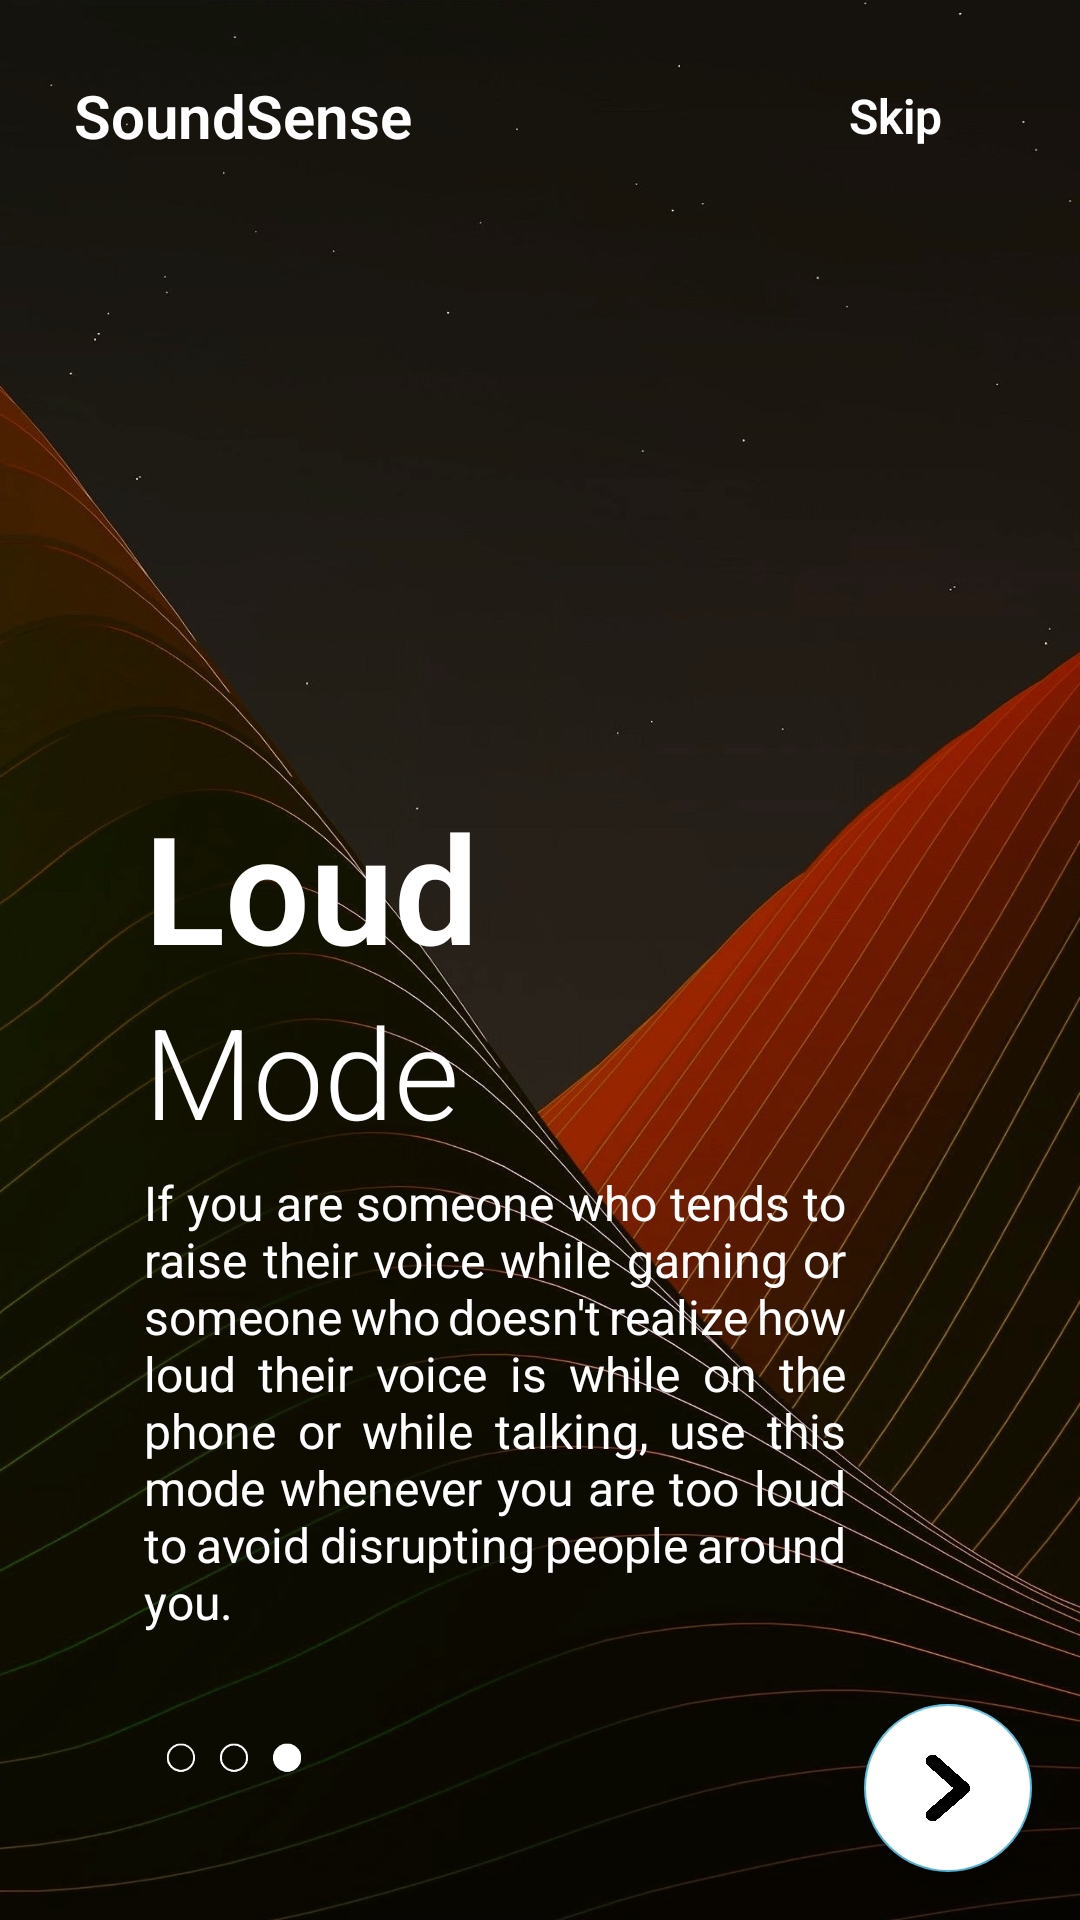

Screen size 1080 x 1920. Icon name, then its center in pixels as (x,y):
arrow: (948,1788)
tab: (238,1758)
